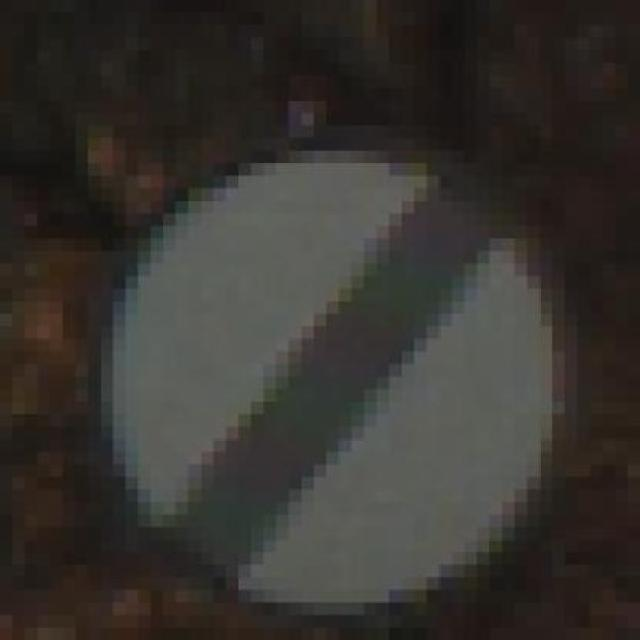End of all speed and passing limits: (50, 125, 590, 628)
